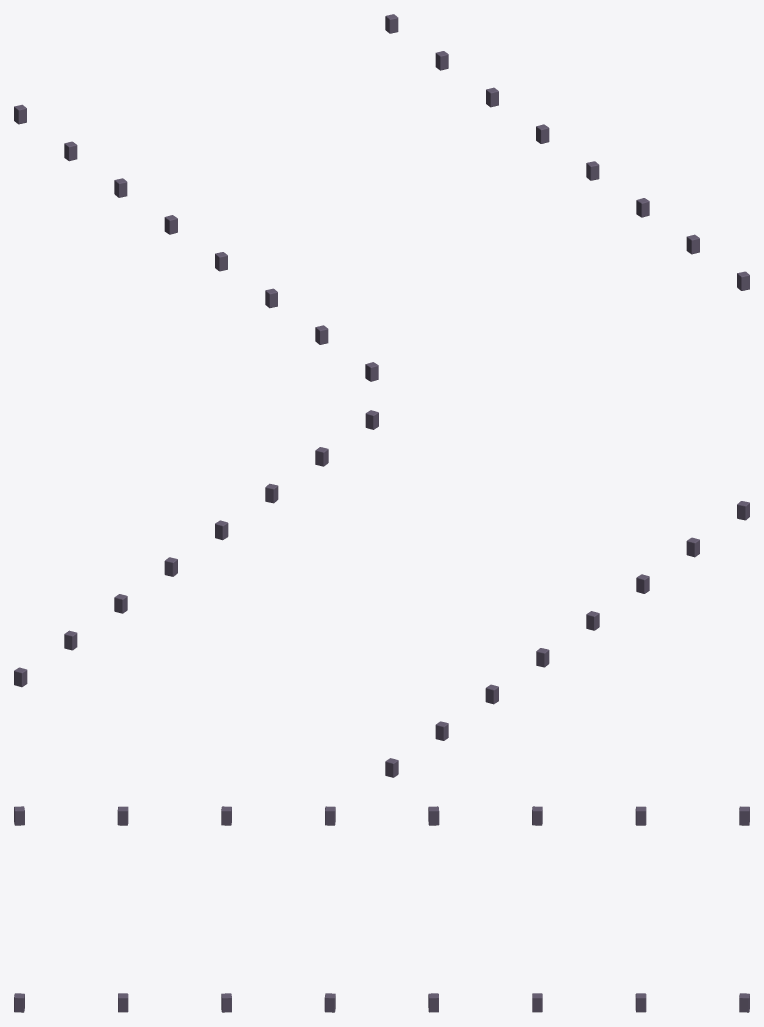
Rendered from LanternPosts.fbx.
3 views of the same model, one above another, from view 1: azimuth 30°, elevation 25°; view 2: azimuth 150°, elevation 25°; view 3: azimuth 270°, elevation 25° (orthographic). The views are drawn at different scales.
Visible parts, largest first — view 1: Post-1_12.001; view 2: Post-1_12.001; view 3: Post-1_12.001.
Part boxes in pixels (x1,y1,x2,y2): Post-1_12.001: [14, 14, 749, 381]; Post-1_12.001: [14, 410, 749, 777]; Post-1_12.001: [14, 806, 749, 1012].
Bounding box in the file's own units: 11375 × 420 × 18473.
